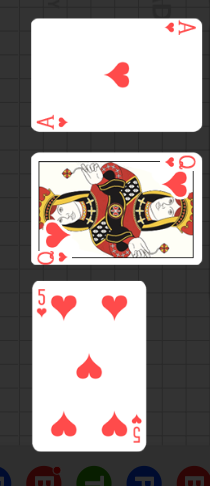5H: (36, 287, 48, 319), (130, 412, 142, 444)
AH: (35, 113, 70, 129)
